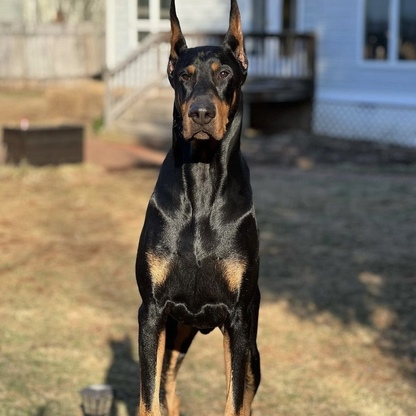doberman: (129, 6, 269, 414)
